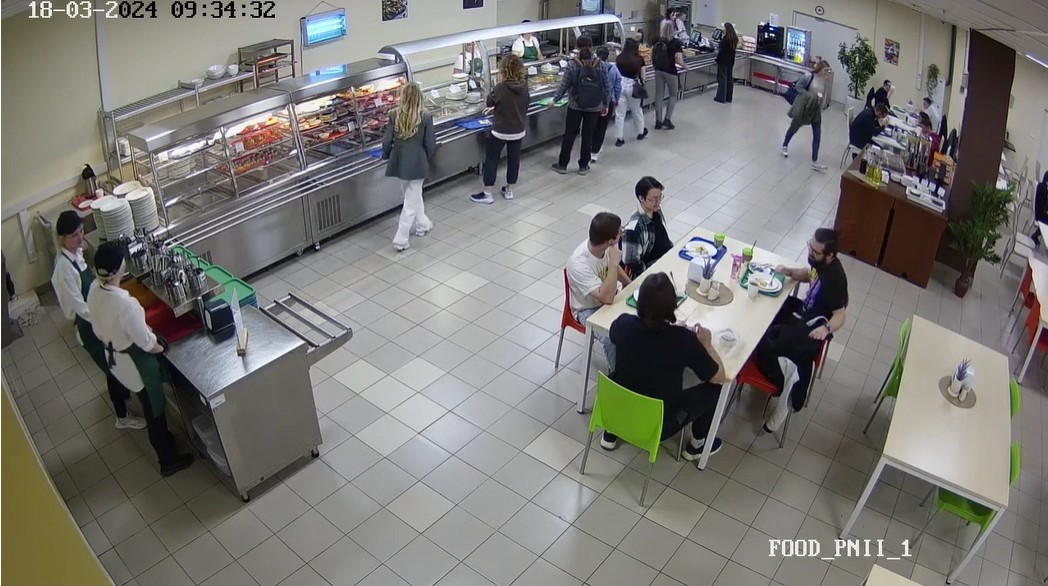Na_Kasse: (707, 20, 739, 104)
Ne_v_Ocheredi: (780, 51, 838, 172)
Personal: (80, 240, 197, 480), (49, 209, 142, 429), (448, 32, 487, 75), (508, 16, 540, 59), (662, 4, 687, 31)
Vybiraet: (380, 80, 446, 247), (461, 56, 526, 203), (551, 37, 600, 175), (612, 37, 651, 144), (653, 20, 687, 130), (594, 44, 625, 158)
Za_Stolom: (579, 264, 711, 476), (545, 208, 628, 372), (765, 226, 850, 354), (619, 169, 673, 253), (842, 101, 893, 163), (905, 116, 945, 170), (1029, 157, 1048, 248), (867, 74, 900, 113), (914, 91, 945, 129)
